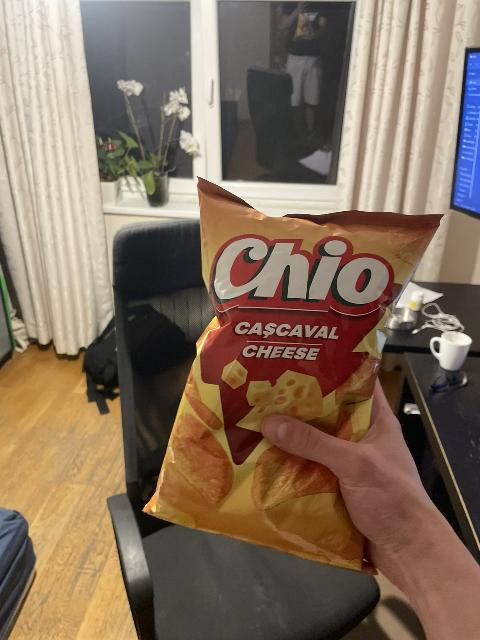Chio Cascaval 125g: (150, 188, 438, 570)
